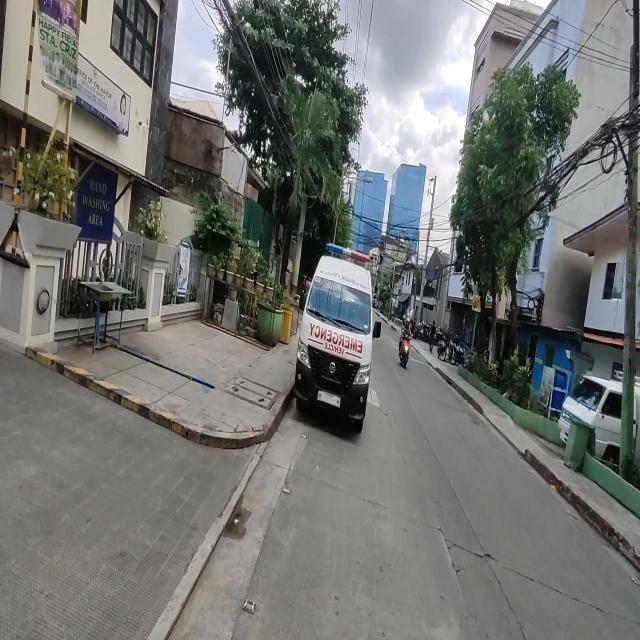emergency-vehicle: (291, 238, 383, 438), (306, 318, 366, 368)
